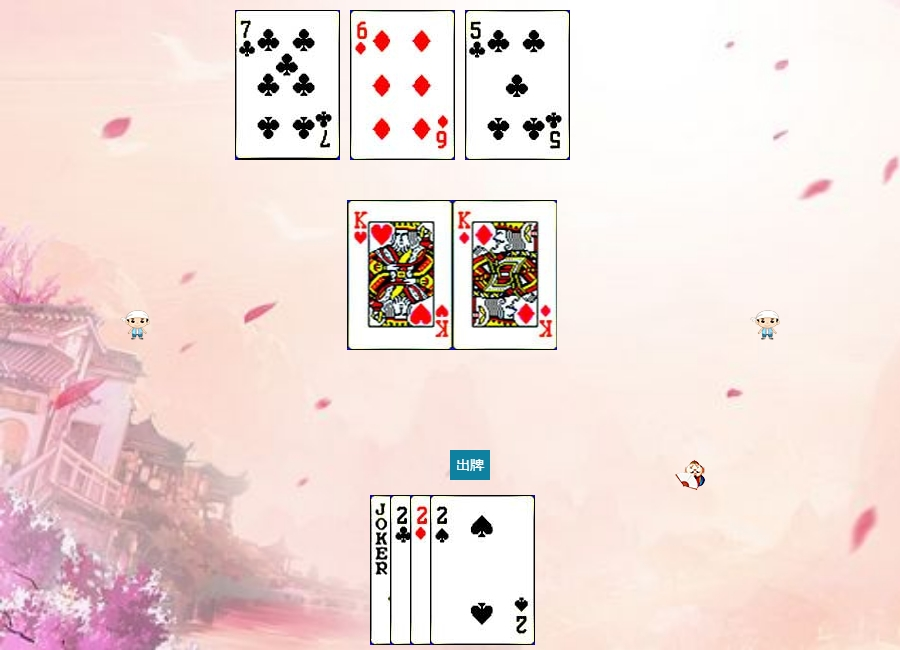13~1: (453, 200, 558, 350)
13~3: (348, 200, 453, 350)
15~1: (410, 495, 515, 645)
15~2: (390, 495, 495, 645)
15~4: (430, 495, 535, 645)
17~3: (370, 495, 475, 645)
5~2: (465, 10, 570, 160)
6~1: (350, 10, 455, 160)
7~2: (235, 10, 340, 160)
